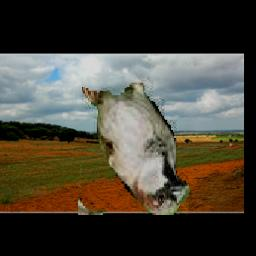Sparrow: (79, 57, 191, 216)
